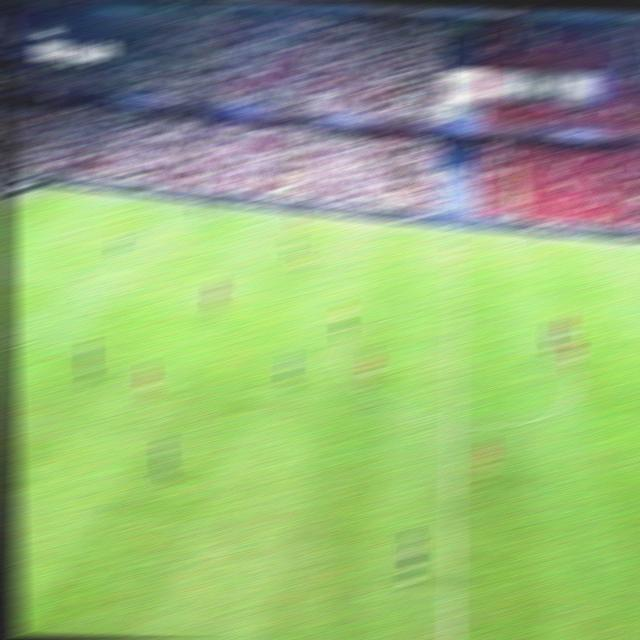bigarea_top_inner: (122, 230, 144, 242)
corner: (36, 186, 64, 194)
halfcircle_bottom: (440, 409, 471, 435)
halfcircle_top: (441, 304, 470, 326)
midline_top_intersection: (447, 225, 469, 239)
top_arc_area_intersection: (67, 273, 88, 286)
